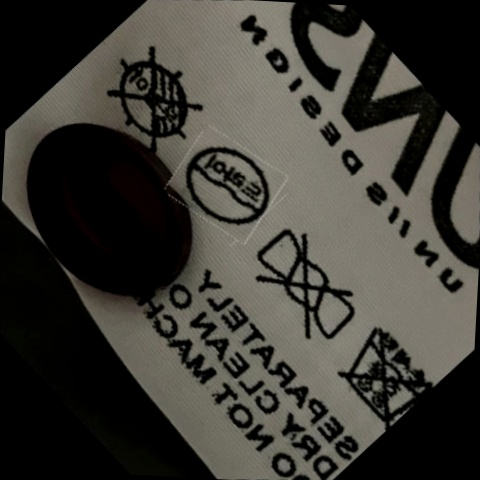DN_dry: (104, 49, 205, 151)
DN_wring: (249, 231, 362, 345)
dry_clean: (181, 139, 272, 233)
hand_wash: (335, 319, 430, 423)
